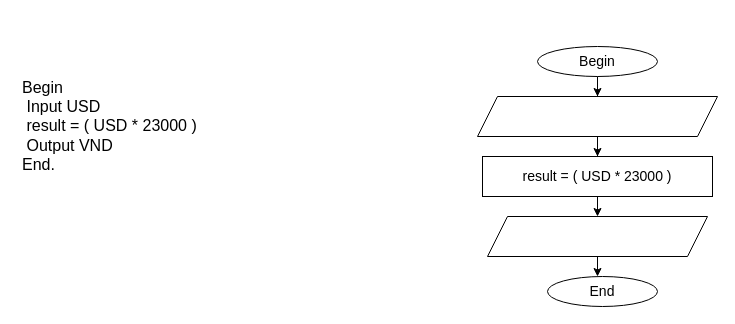
This 735x324 diagram has some shape labels left out. The centre of each missing label's shape, as x and y in pixels:
"Input USD" belongs at point 597,116.
"Output VND" belongs at point 597,236.
